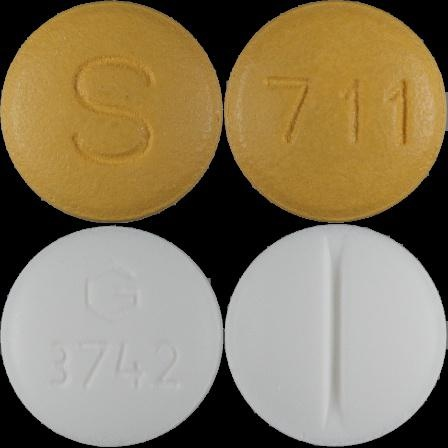43063-436: (0, 0, 224, 224)
